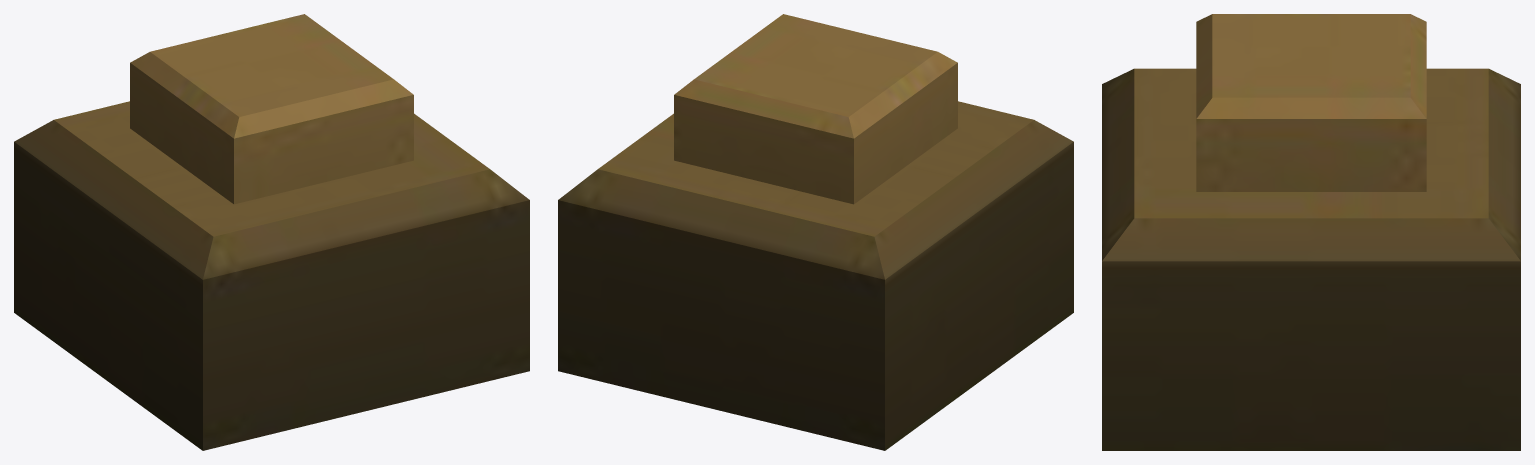
Rendered from chemical-plant.glb.
3 views of the same model, side by side, from view 1: azimuth 30°, elevation 25°; view 2: azimuth 150°, elevation 25°; view 3: azimuth 270°, elevation 25° (orthographic). The views are drawn at different scales.
Visible parts, largest first — view 1: chemical-plant; view 2: chemical-plant; view 3: chemical-plant.
Part boxes in pixels (bbox=[...]): chemical-plant: bbox=[14, 14, 529, 450]; chemical-plant: bbox=[558, 14, 1073, 450]; chemical-plant: bbox=[1102, 14, 1520, 450].
Bounding box in the file's own units: 0.26 × 0.21 × 0.26.
Materials: 1 (1 with a texture image).
